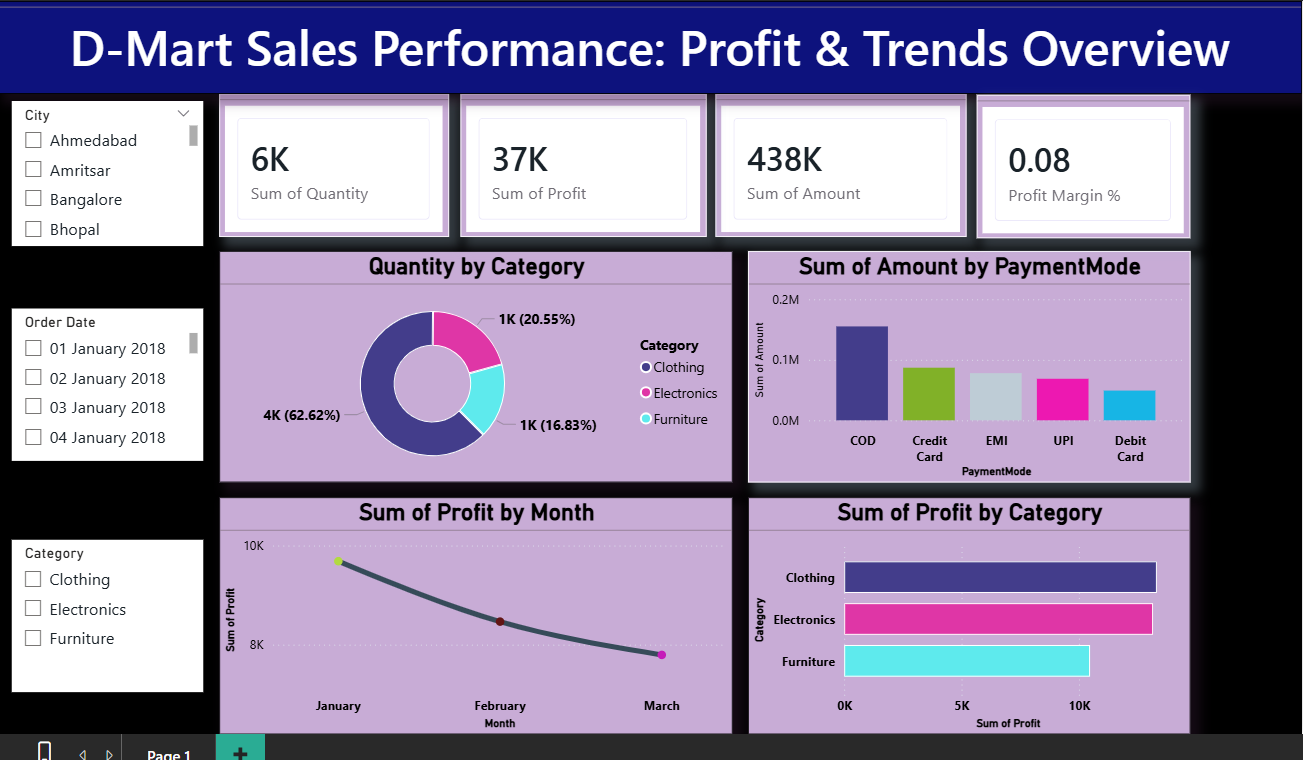

The dashboard page shown, as its layout file describes it:
{"tool":"powerbi","page":{"name":"Page 1","canvas":[1280,720],"ordinal":0},"visuals":[{"type":"donutChart","title":"Units Sold by Category","fields":{"Category":["Details (2).Category"],"Y":["Sum(Details (2).Quantity)"]},"box":[217.2,245.4,504.3,227],"z":0},{"type":"lineChart","title":"Monthly Profit Trend","fields":{"Category":["Orders (2).Order Date.Variation.Date Hierarchy.Month"],"Y":["Sum(Details (2).Profit)"]},"box":[217.2,487.1,504.3,233.1],"z":1000},{"type":"clusteredColumnChart","title":"Sales By Payment Mode","fields":{"Y":["Sum(Details (2).Amount)"],"Category":["Details (2).PaymentMode"]},"box":[736.2,245.4,434.4,227],"z":2000},{"type":"clusteredBarChart","title":" Profit Contribution by Category","fields":{"Category":["Details (2).Category"],"Y":["Sum(Details (2).Profit)"]},"box":[736.2,487.1,434.4,233.1],"z":3000},{"type":"cardVisual","fields":{"Data":["Sum(Details (2).Quantity)"]},"box":[217.2,90.8,225.8,141.1],"z":4000},{"type":"cardVisual","fields":{"Data":["Sum(Details (2).Amount)"]},"box":[704.3,90.8,246.6,141.1],"z":5000},{"type":"cardVisual","fields":{"Data":["Sum(Details (2).Profit)"]},"box":[454,90.8,241.7,141.1],"z":6000},{"type":"textbox","box":[0,0,1280,91.2],"z":7000},{"type":"slicer","fields":{"Values":["Orders (2).City"]},"box":[13.5,98.2,187.7,142.3],"z":8000},{"type":"slicer","fields":{"Values":["Orders (2).Order Date"]},"box":[13.5,301.8,187.7,149.7],"z":9000},{"type":"slicer","fields":{"Values":["Details (2).Category"]},"box":[13.5,528.8,187.7,149.7],"z":10000},{"type":"cardVisual","fields":{"Data":["Details (2).Profit Margin %"]},"box":[960.7,92,209.8,141.1],"z":10001}]}

Visuals, with their boxes in screenshot pixels (x1, y1, x2, y2):
"Units Sold by Category" donutChart: [218, 250, 724, 478]
"Monthly Profit Trend" lineChart: [218, 492, 724, 726]
"Sales By Payment Mode" clusteredColumnChart: [739, 250, 1175, 478]
" Profit Contribution by Category" clusteredBarChart: [739, 492, 1175, 726]
cardVisual - Sum(Details (2).Quantity): [218, 95, 445, 236]
cardVisual - Sum(Details (2).Amount): [707, 95, 955, 236]
cardVisual - Sum(Details (2).Profit): [456, 95, 698, 236]
textbox: [0, 3, 1285, 95]
slicer - Orders (2).City: [14, 102, 202, 245]
slicer - Orders (2).Order Date: [14, 306, 202, 457]
slicer - Details (2).Category: [14, 534, 202, 685]
cardVisual - Details (2).Profit Margin %: [964, 96, 1175, 237]
